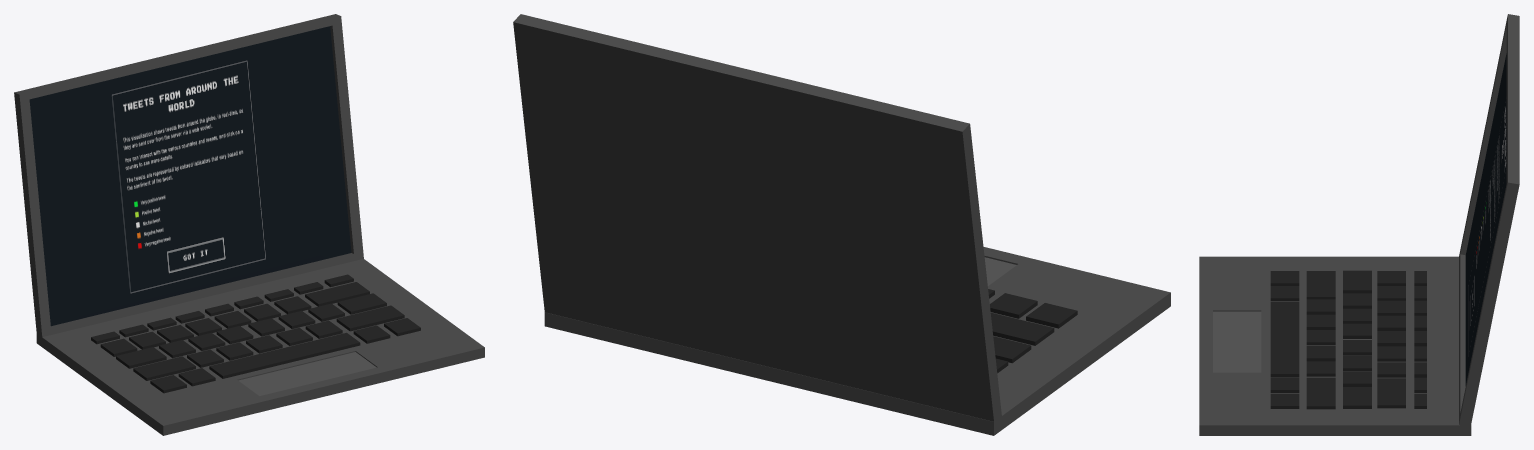
Rendered from tweets-macbook.glb.
3 renders of one model, left to right at view 1: azimuth 30°, elevation 25°; view 2: azimuth 150°, elevation 25°; view 3: azimuth 270°, elevation 25°, orthographic. The views are drawn at different scales.
Visible parts, largest first — view 1: Cube.001, Cube, Cube.042, Cube.037, Cube.019, Cube.029, Cube.020, Cube.028; view 2: Cube.001, Cube, Cube.029, Cube.038, Cube.039, Cube.020; view 3: Cube, Cube.001, Cube.042, Cube.037, Cube.019, Cube.029, Cube.020, Cube.028, Cube.032, Cube.036, Cube.033, Cube.034 (+18 smaller).
Boxes of the visible parts, x1,y1,x2,y2 form: Cube.001: (14,14,363,337); Cube: (36,259,484,435); Cube.042: (209,332,360,378); Cube.037: (336,305,404,331); Cube.019: (305,282,369,306); Cube.029: (133,356,195,380); Cube.020: (116,347,166,368); Cube.028: (337,293,386,314); Cube.001: (513,14,1001,423); Cube: (544,247,1170,435); Cube.029: (990,312,1054,345); Cube.038: (1026,303,1077,328); Cube.039: (990,293,1037,318); Cube.020: (993,336,1031,363); Cube: (1199,256,1471,435); Cube.001: (1459,14,1519,426); Cube.042: (1270,302,1299,377); Cube.037: (1306,377,1335,409); Cube.019: (1377,378,1405,408); Cube.029: (1306,271,1335,299); Cube.020: (1343,270,1371,293); Cube.028: (1343,387,1371,408); Cube.032: (1306,299,1335,314); Cube.036: (1306,361,1335,376); Cube.033: (1306,314,1335,329); Cube.034: (1306,330,1335,345).
Size of the model in its own units: 5.33 by 3.74 by 4.28.
Materials: 4 (1 with a texture image).
